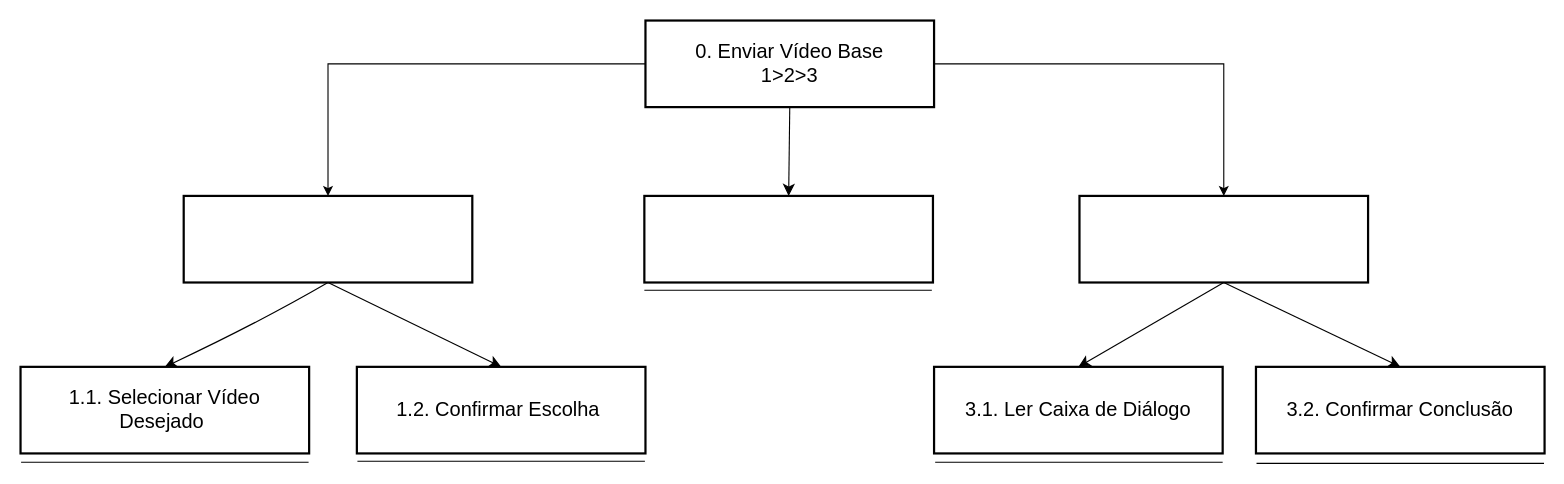
This 1564x484 diagram has some shape labels left out. The centre of each missing label's shape, as x and y in pixels:
"1. Escolher Arquivo de Vídeo 1>2" goes at (327,238).
"2. Acompanhar processamento do vídeo" goes at (788,238).
"3. Receber Confirmação de Conclusão 1>2" goes at (1223,238).
